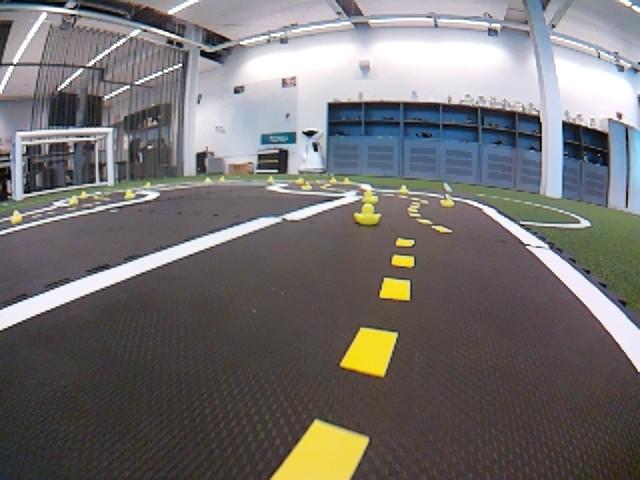Duckies: (353, 202, 383, 226), (362, 189, 379, 205), (439, 192, 456, 208), (9, 209, 23, 225), (399, 184, 410, 196), (68, 195, 79, 206), (124, 190, 136, 199), (302, 182, 314, 191), (79, 190, 88, 200), (328, 177, 338, 185), (342, 177, 351, 185), (144, 180, 151, 190), (204, 176, 212, 184), (296, 177, 304, 185), (219, 174, 226, 182), (267, 176, 275, 182)
